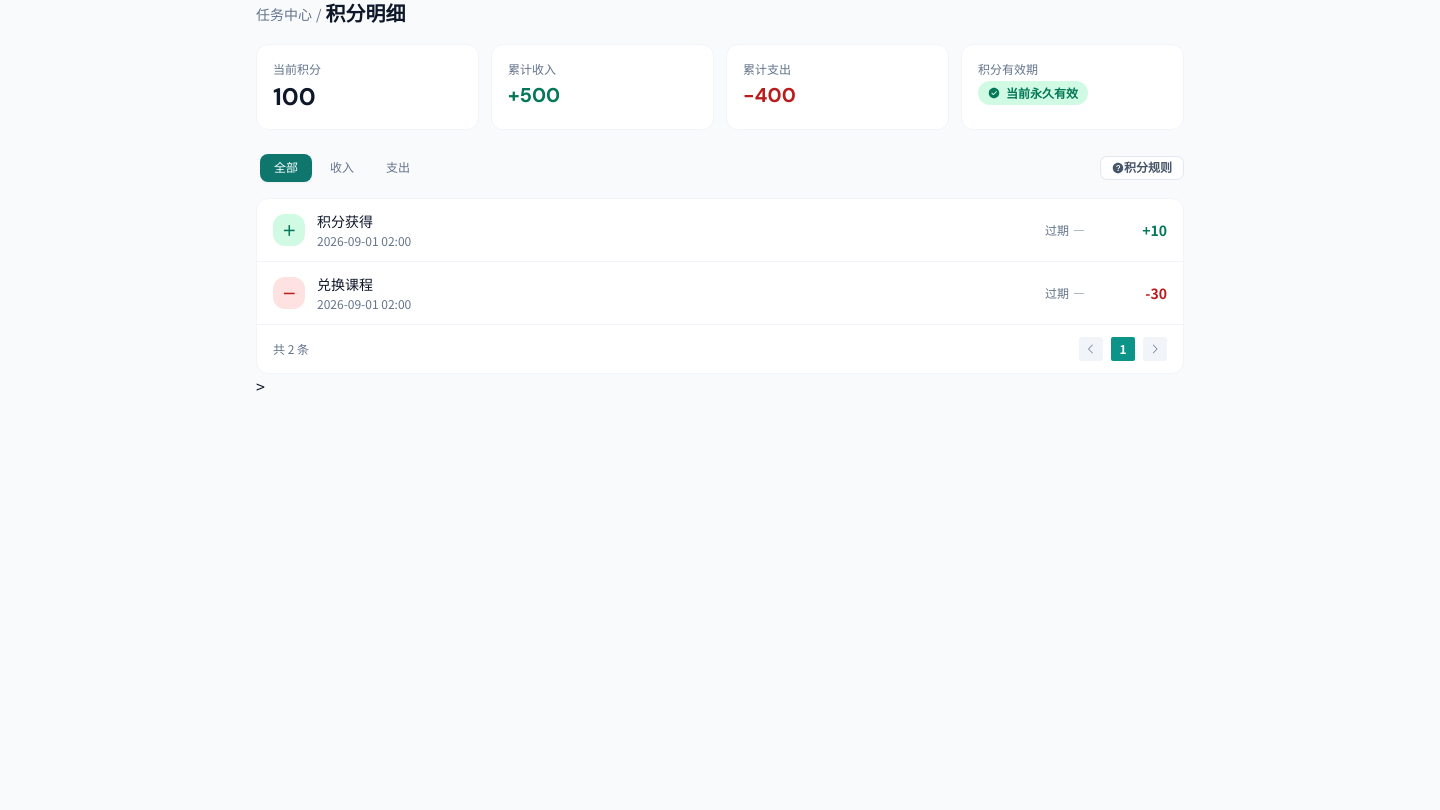
Test: PointsLedger 积分明细页（#512） › 点「积分规则」打开抽屉
Click the button "积分规则".
click(1142, 168)  # box [1100,156,1184,180]
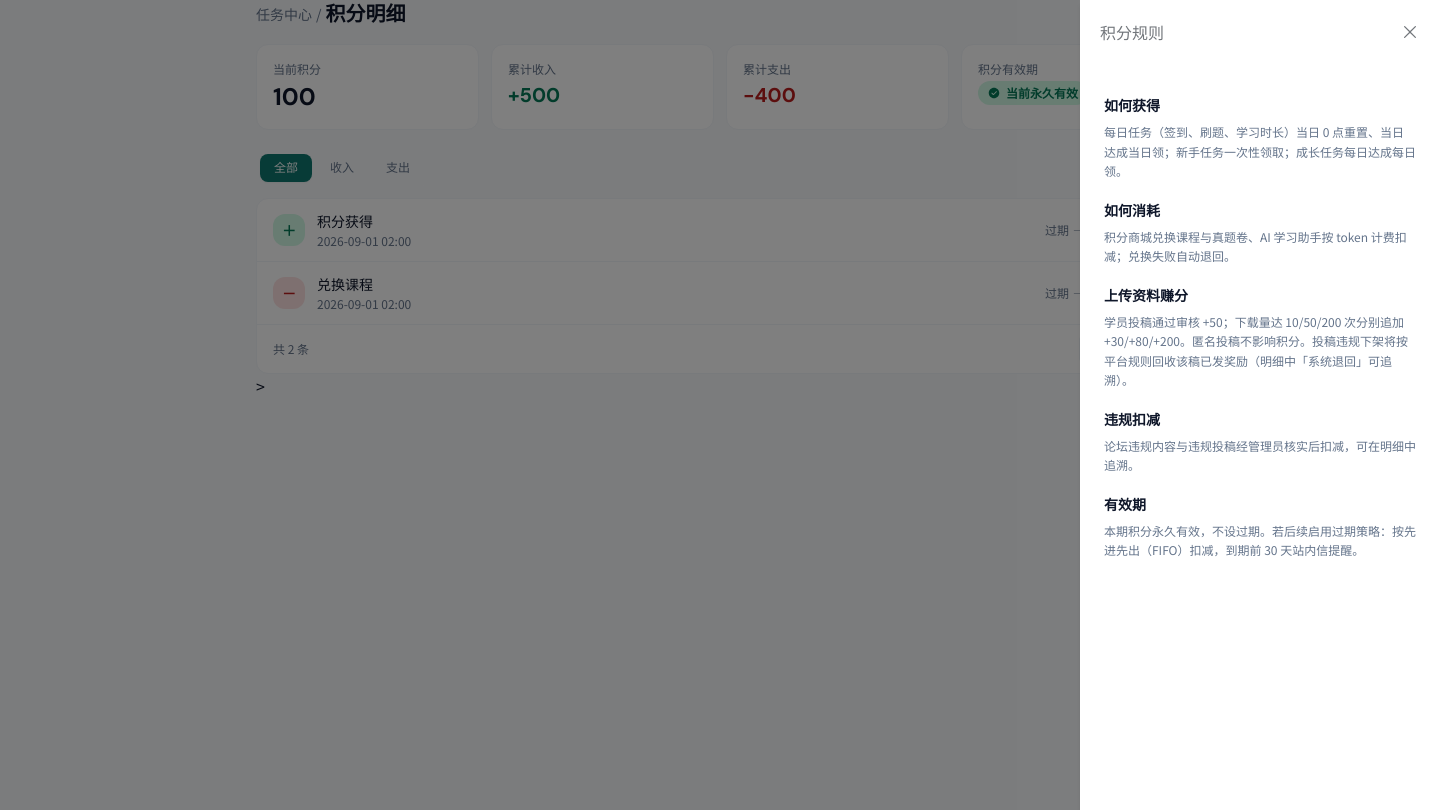
Result: the text "如何获得" is shown at [1104,97,1160,115]
